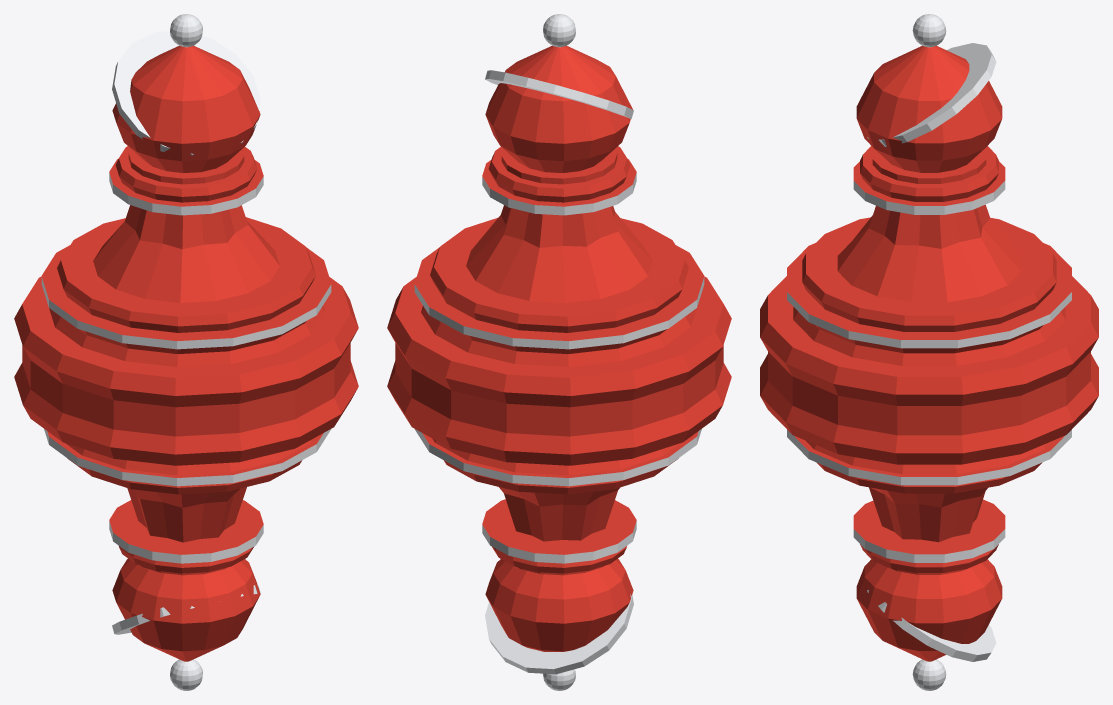
Rendered from bishop-deco.glb.
3 renders of one model, left to right at view 1: azimuth 30°, elevation 25°; view 2: azimuth 150°, elevation 25°; view 3: azimuth 270°, elevation 25°, orthographic.
Visible parts, largest first — view 1: bishop-deco; view 2: bishop-deco; view 3: bishop-deco.
Boxes of the visible parts, <box> form: bishop-deco: <box>14,14,358,690</box>; bishop-deco: <box>387,14,731,690</box>; bishop-deco: <box>760,14,1098,690</box>.
Size of the model in its own units: 0.4513 by 0.9907 by 0.4513.
